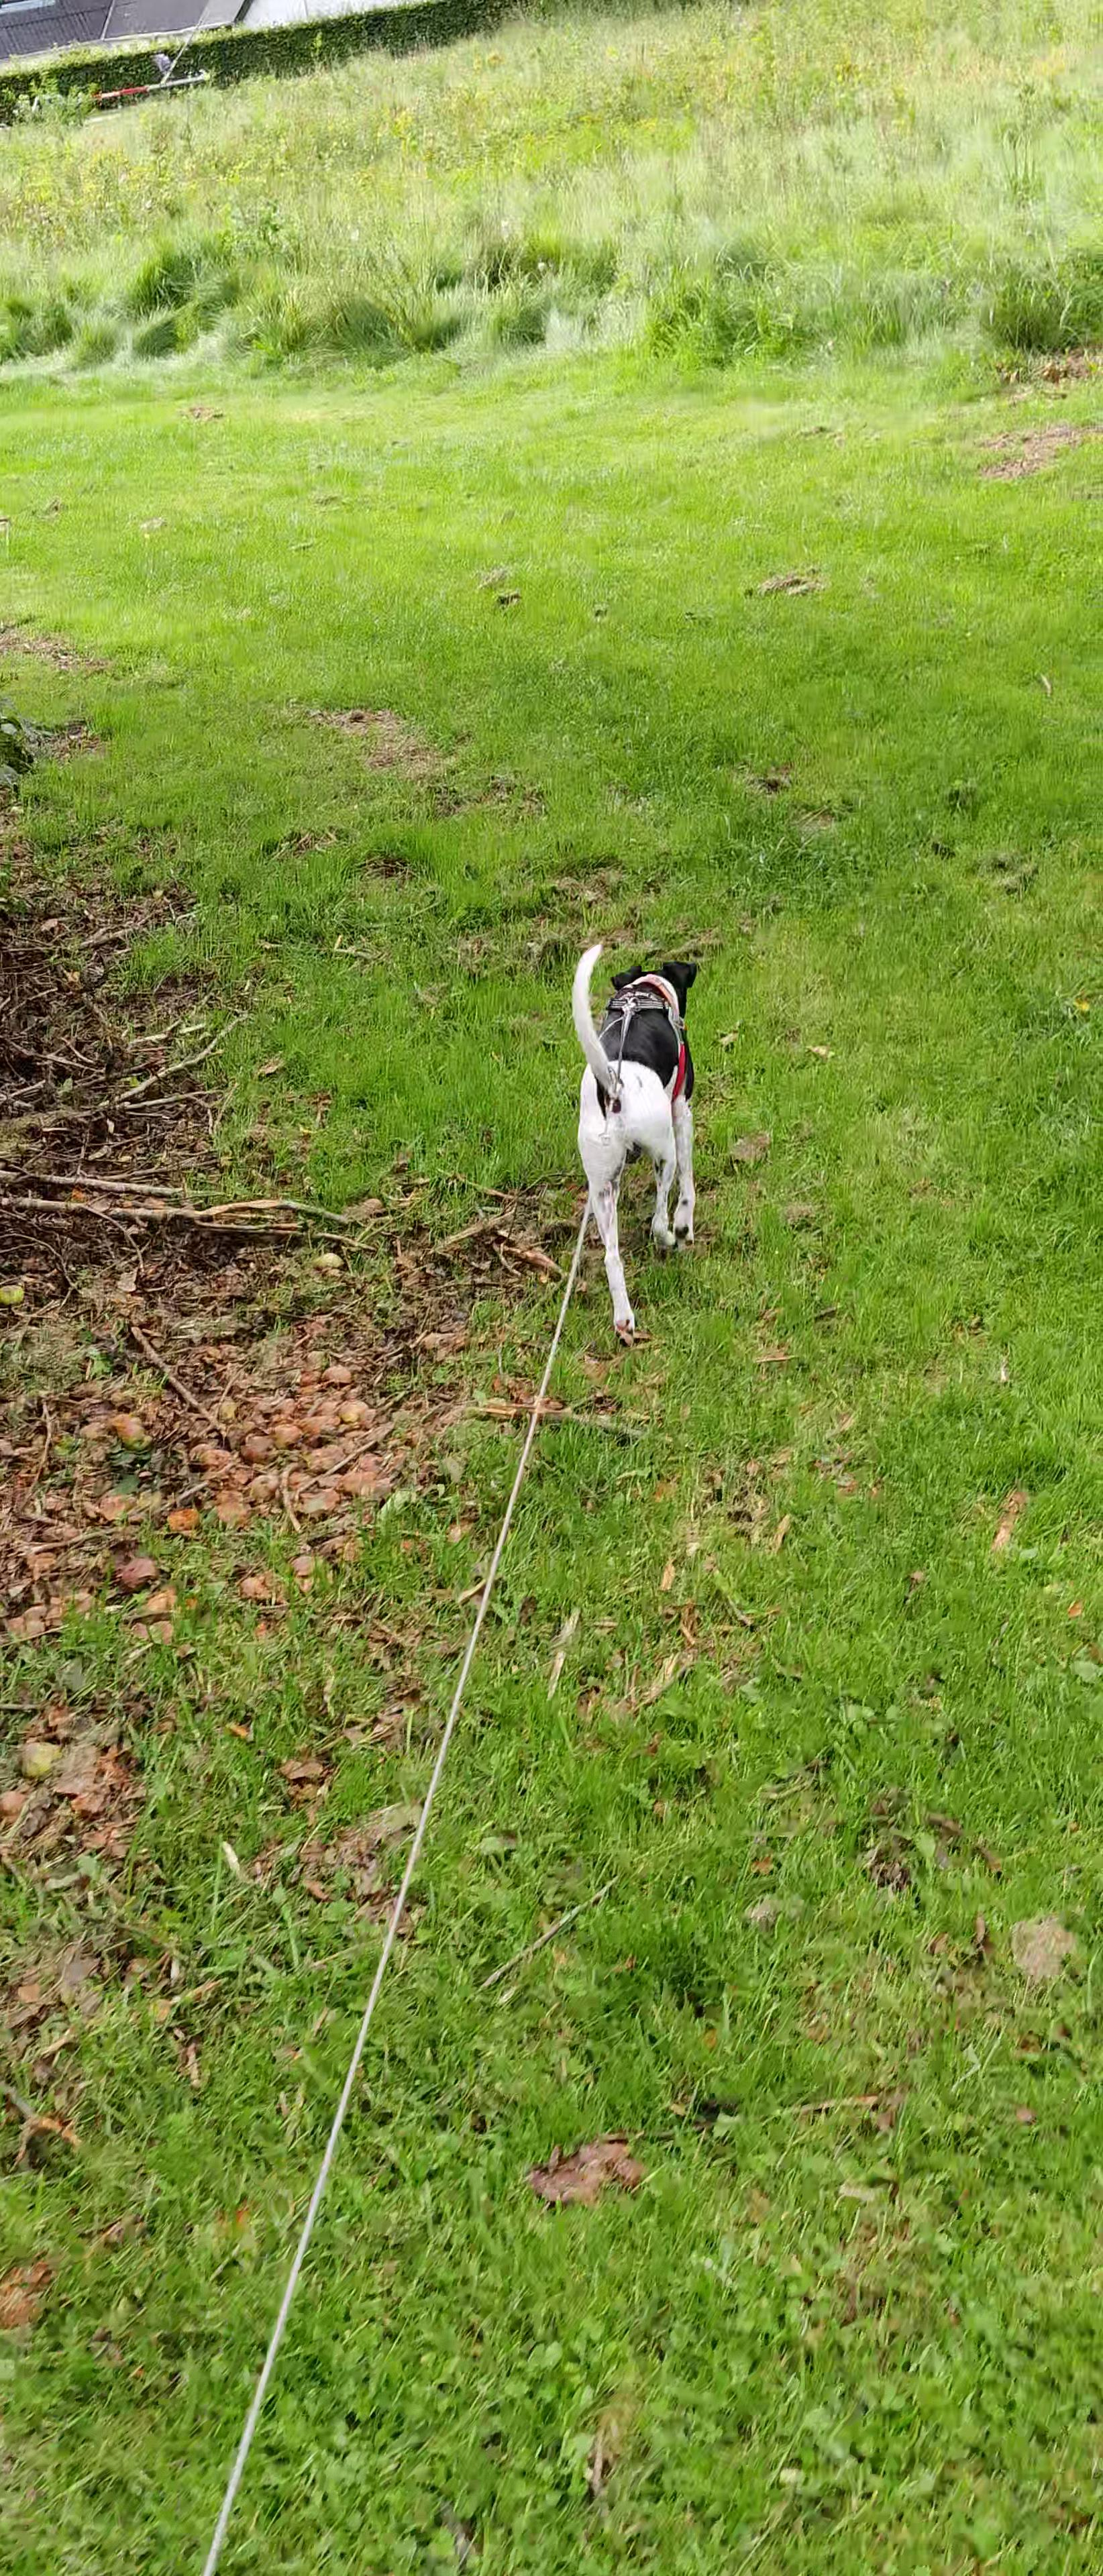Dog: (544, 922, 713, 1354)
